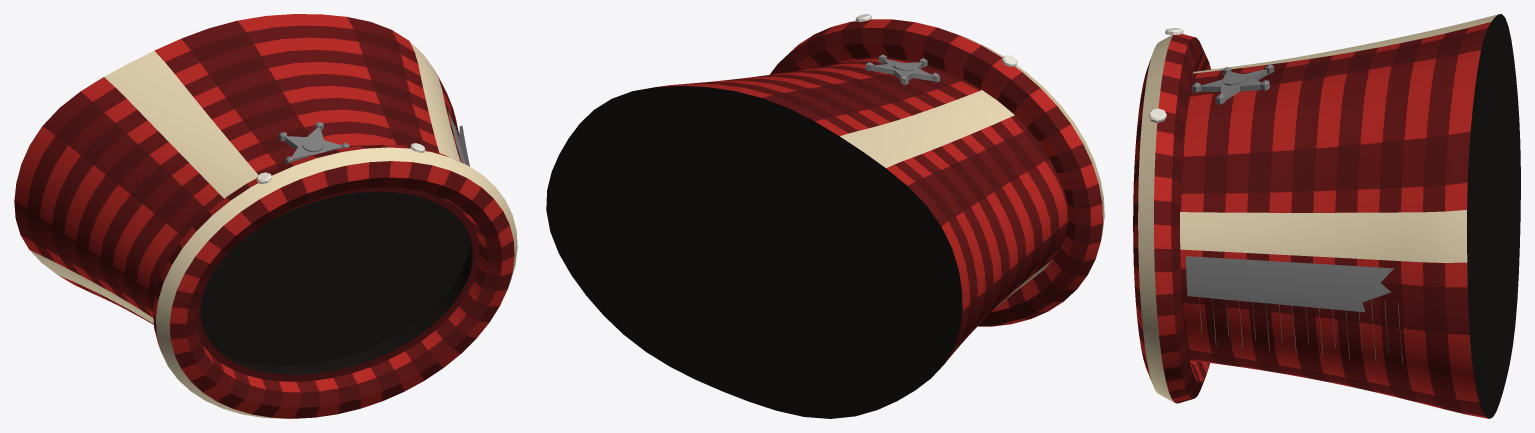
Rendered from Sleeve_Cowboy.fbx.
The picture shows the model from 3 angles, left to right: view 1: azimuth 30°, elevation 25°; view 2: azimuth 150°, elevation 25°; view 3: azimuth 270°, elevation 25°; orthographic projection. The views are drawn at different scales.
Visible parts, largest first — view 1: Sleeve_Cowboy; view 2: Sleeve_Cowboy; view 3: Sleeve_Cowboy.
Part boxes in pixels (box(x1,y1,x2,y2)): Sleeve_Cowboy: box(14, 14, 517, 418); Sleeve_Cowboy: box(546, 14, 1104, 418); Sleeve_Cowboy: box(1133, 14, 1520, 418).
Bounding box in the file's own units: 0.9723 × 0.6566 × 0.673.
1 material, 1 textured.
